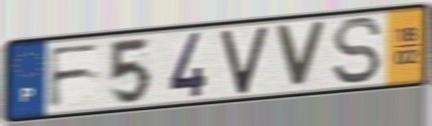4: (166, 30, 209, 101)
5: (106, 34, 155, 105)
F: (46, 40, 105, 111)
S: (330, 15, 385, 87)
V: (272, 20, 330, 90), (218, 23, 271, 97)
